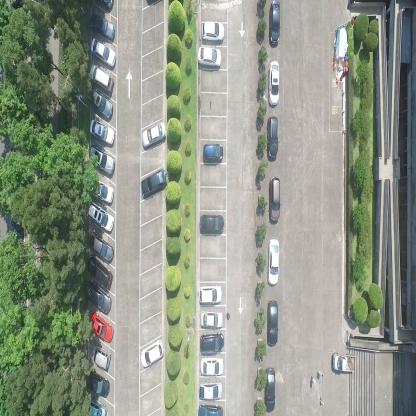car: (86, 254, 112, 290), (87, 144, 115, 177), (87, 200, 115, 233), (83, 280, 111, 313), (88, 38, 117, 68), (87, 85, 113, 118), (140, 168, 167, 199), (88, 116, 115, 146), (88, 230, 113, 262), (88, 12, 115, 41), (140, 337, 164, 369), (88, 64, 114, 93), (141, 119, 166, 149), (89, 312, 113, 343), (88, 178, 114, 206), (196, 44, 223, 70), (268, 174, 281, 225), (267, 237, 280, 286), (331, 351, 356, 376), (198, 212, 226, 234), (267, 299, 279, 349), (86, 371, 110, 396), (266, 113, 278, 161), (264, 365, 276, 413), (199, 332, 224, 355), (198, 379, 224, 401), (201, 21, 225, 44), (90, 344, 110, 371), (269, 58, 280, 107), (269, 0, 280, 47), (200, 357, 224, 378), (203, 142, 224, 165), (200, 309, 223, 329), (198, 284, 222, 303), (84, 397, 108, 415), (197, 403, 224, 415)
